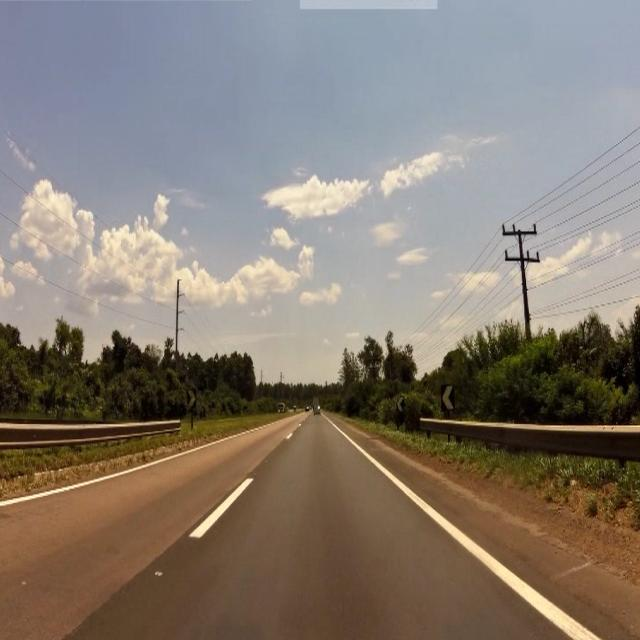Del: (444, 383, 456, 414), (188, 390, 199, 415), (399, 392, 405, 418)
